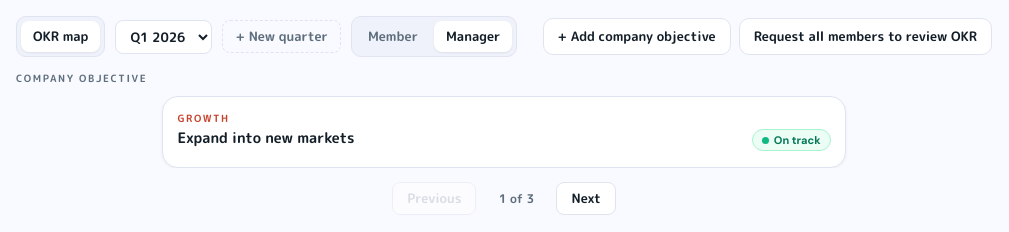
Test: OkrMapPage › carousel navigation › goes back to the previous objective when Previous is clicked
The image size is (1009, 232).
Click the button "Next": {"x": 586, "y": 198} x1=556 y1=182 x2=616 y2=215
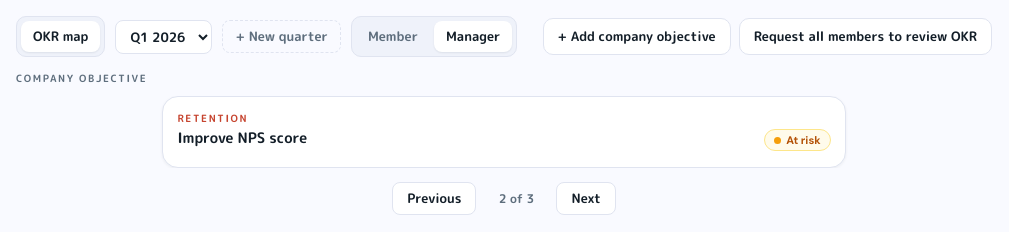
Click the button "Previous": {"x": 434, "y": 198} x1=392 y1=182 x2=476 y2=215
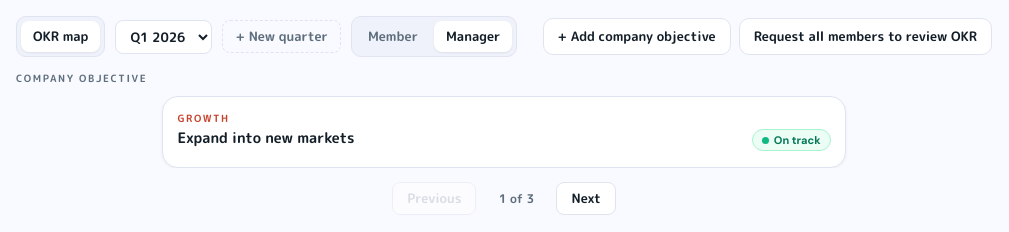
Check: the text "Expand into new markets" is shown, box x1=177 y1=127 x2=354 y2=148
Check: the text "Improve NPS score" is gone
Check: the text "1 of 3" is shown, box x1=499 y1=190 x2=534 y2=206
